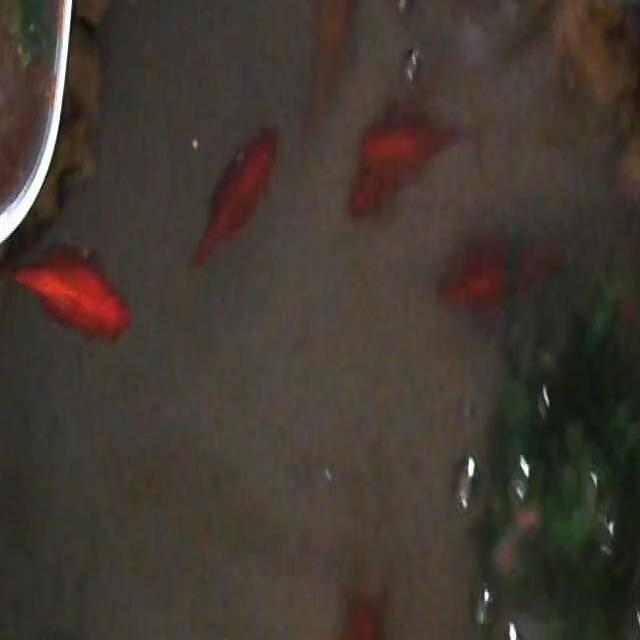fish: (346, 96, 476, 215), (188, 124, 281, 268), (2, 243, 133, 343), (432, 234, 564, 318), (303, 0, 352, 139), (335, 586, 398, 640)
